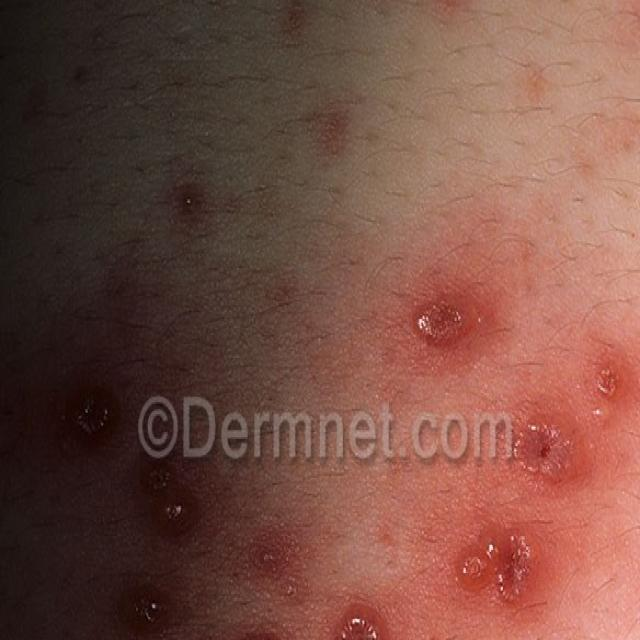Viral Infections: (413, 224, 640, 631), (48, 342, 204, 640), (210, 527, 406, 640), (309, 80, 389, 172), (165, 172, 213, 236)
